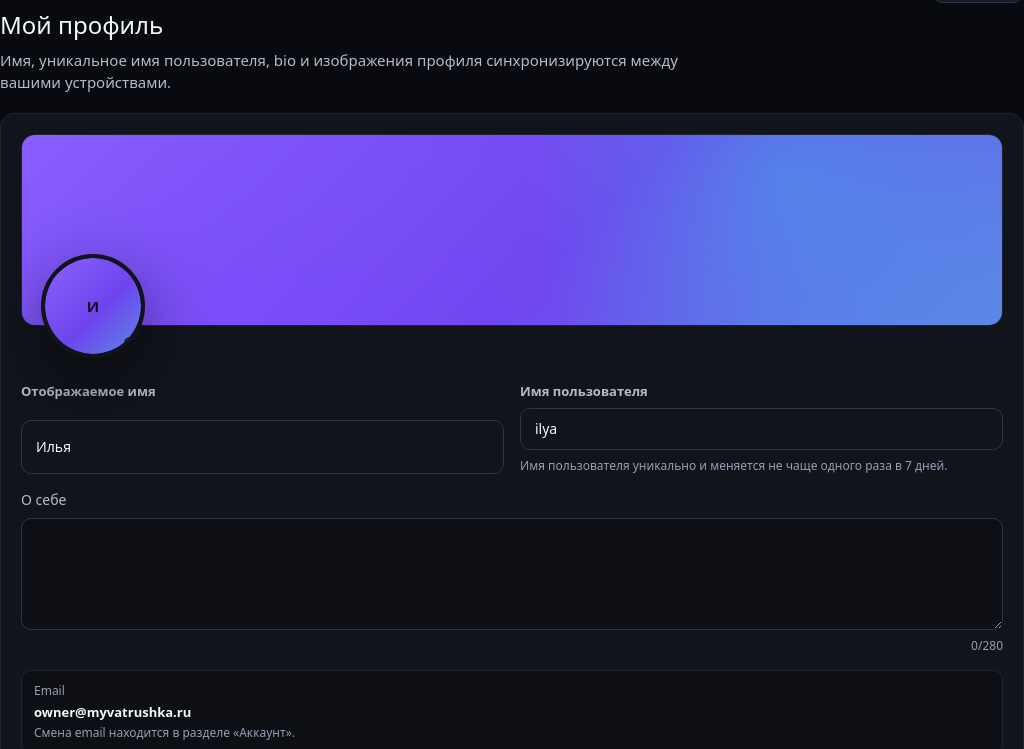
Test: routed user settings pages › validates and saves the supported display name field
This screenshot has width=1024, height=749.
Replace the text in the field labelled "Отображаемое имя" with "Илья Форбиш" at (262, 447), box x1=34 y1=427 x2=491 y2=467
(page scrolled)
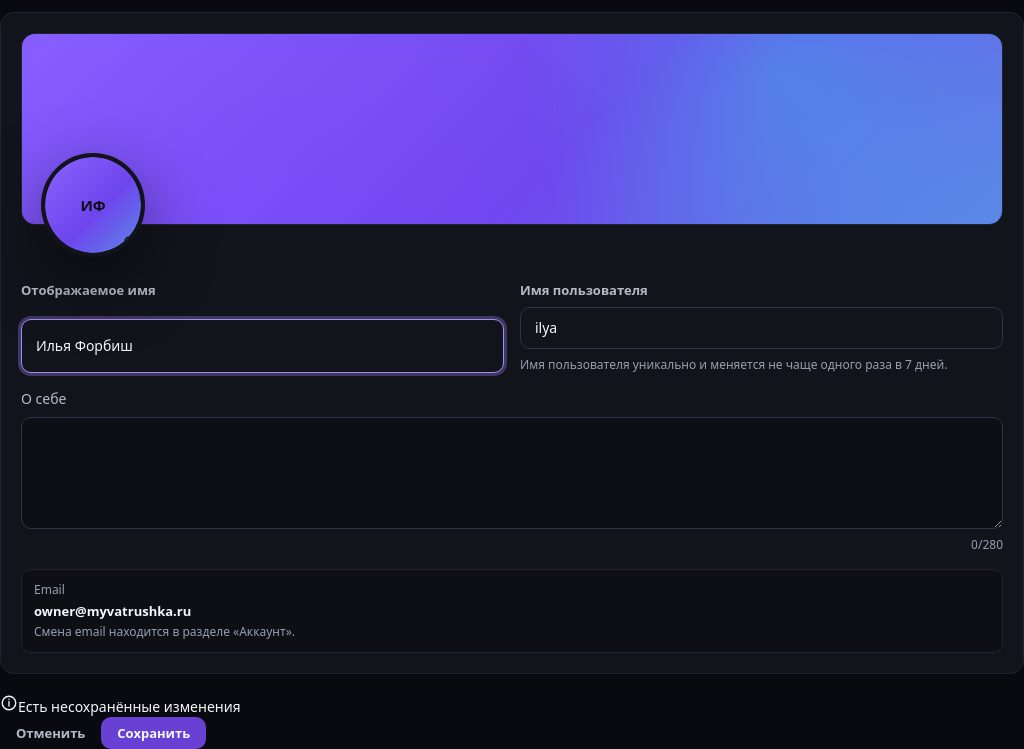
Result: the text "Есть несохранённые изменения" is shown at x1=0 y1=697 x2=241 y2=716
Click the button "Сохранить" at (154, 733), box x1=101 y1=717 x2=206 y2=748
(page scrolled)
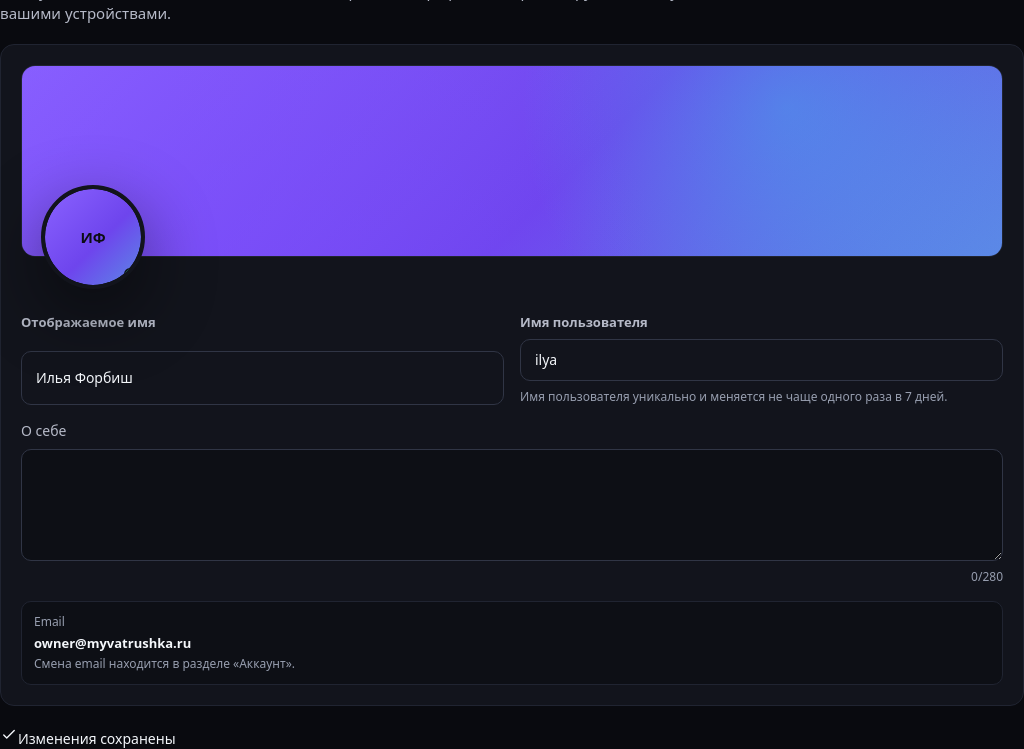
Result: the text "Изменения сохранены" is shown at x1=0 y1=729 x2=176 y2=748
